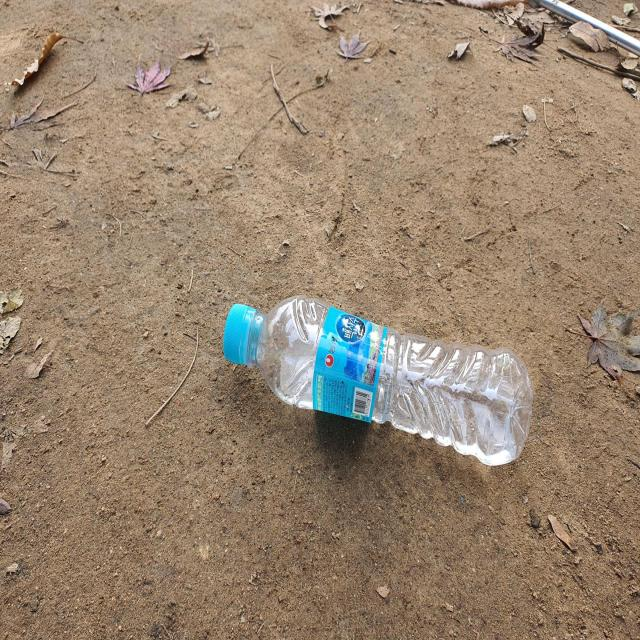plastic: (223, 296, 533, 466)
